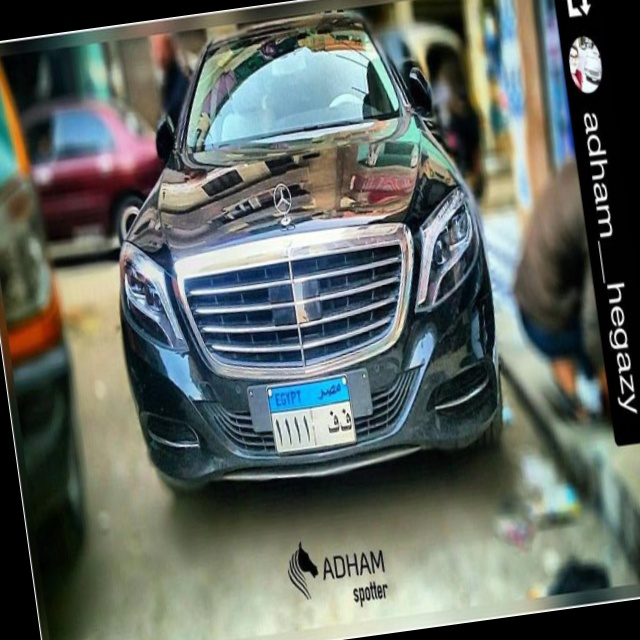License Plate: (264, 372, 359, 460)
